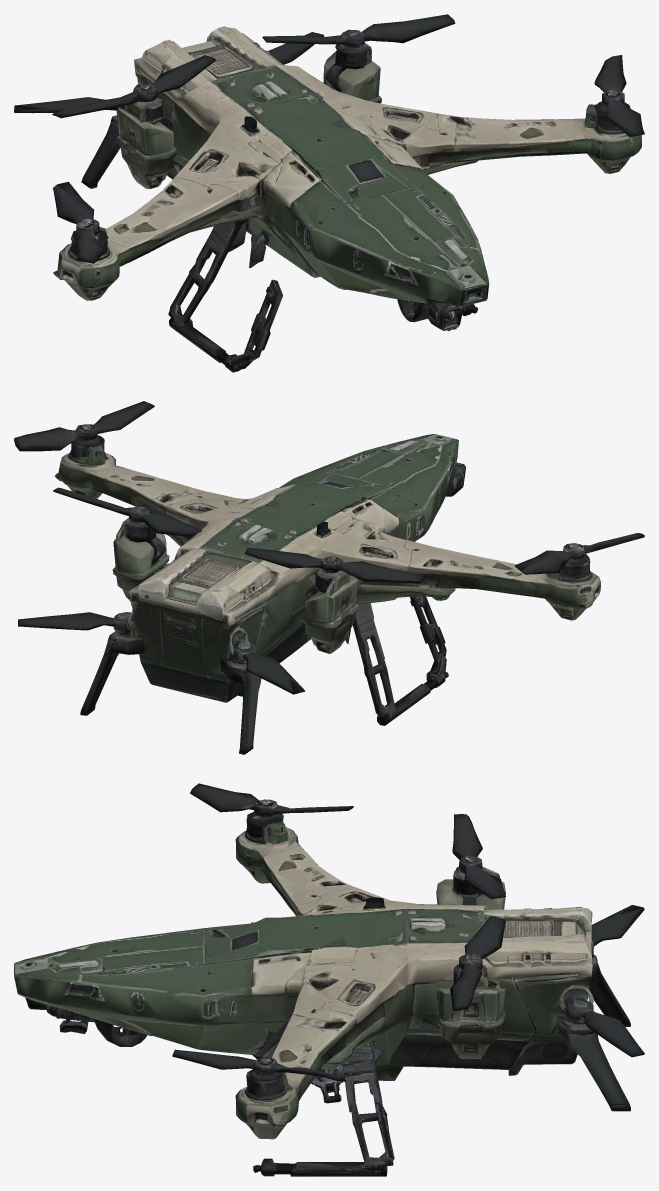
File: t243_dra_lod0.glb
The picture shows the model from 3 angles, top to bottom: view 1: azimuth 30°, elevation 25°; view 2: azimuth 150°, elevation 25°; view 3: azimuth 270°, elevation 25°; orthographic projection. The views are drawn at different scales.
Bounding box in the file's own units: 2.4 × 0.8026 × 2.13.
1 material, 1 textured.
